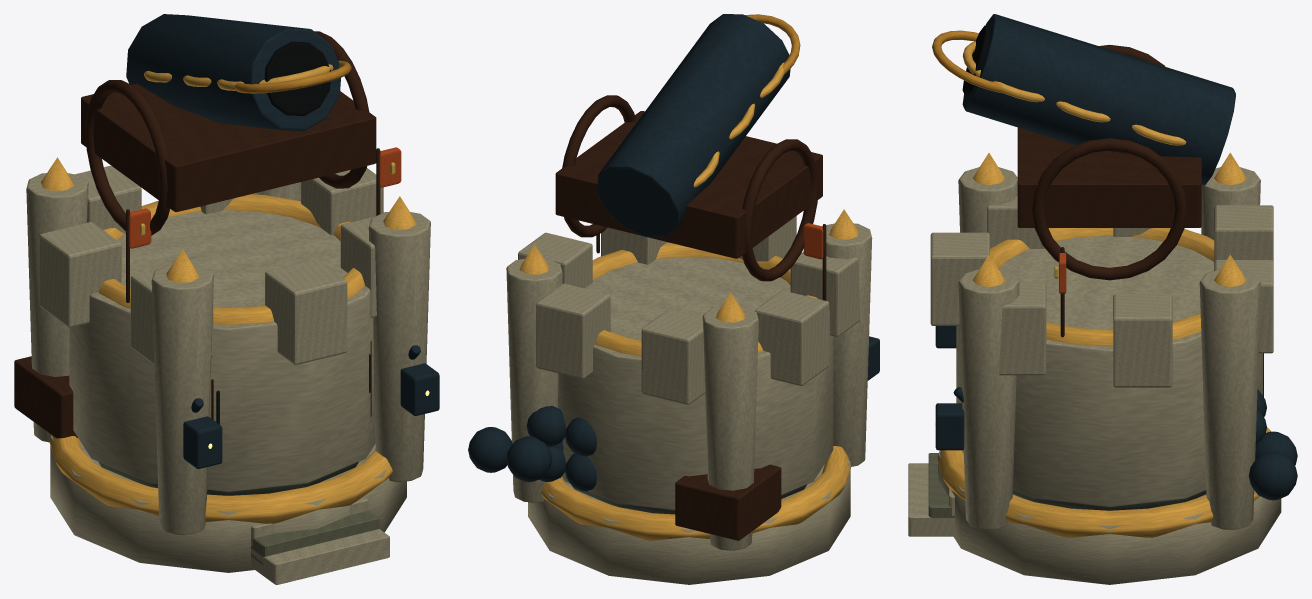
File: tower-cannon-3-base.glb
The picture shows the model from 3 angles, left to right: view 1: azimuth 30°, elevation 25°; view 2: azimuth 150°, elevation 25°; view 3: azimuth 270°, elevation 25°; orthographic projection. The views are drawn at different scales.
Visible parts, largest first — view 1: Foundation, Turret, cannon-L3-base; view 2: Foundation, Turret, cannon-L3-base; view 3: Foundation, Turret, cannon-L3-base.
Part boxes in pixels (x1,y1,x2,y2): Foundation: (14,147,439,584); Turret: (81,14,376,235); cannon-L3-base: (50,435,406,572); Foundation: (468,209,879,550); Turret: (555,14,822,281); cannon-L3-base: (528,458,850,584); Foundation: (908,152,1297,537); Turret: (932,14,1235,280); cannon-L3-base: (938,450,1281,584).
Bounding box in the file's own units: 1.71 × 2.67 × 1.91.
15 materials, 15 textured.
